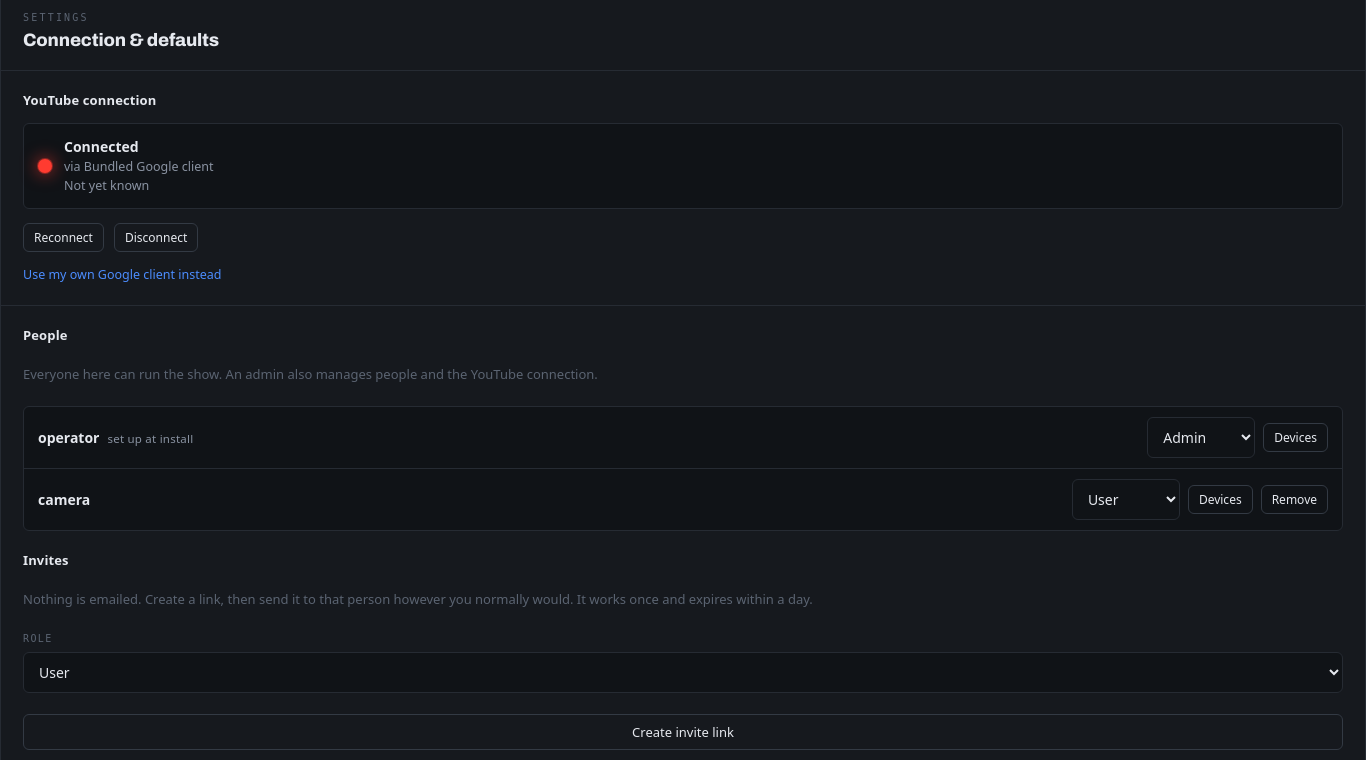
it: invites › shows the link once, and says it will not be shown again
The width and height of the screenshot is (1366, 760).
Click the button "Create invite link". click: (683, 732)
box: [23,714,1343,750]
(page scrolled)
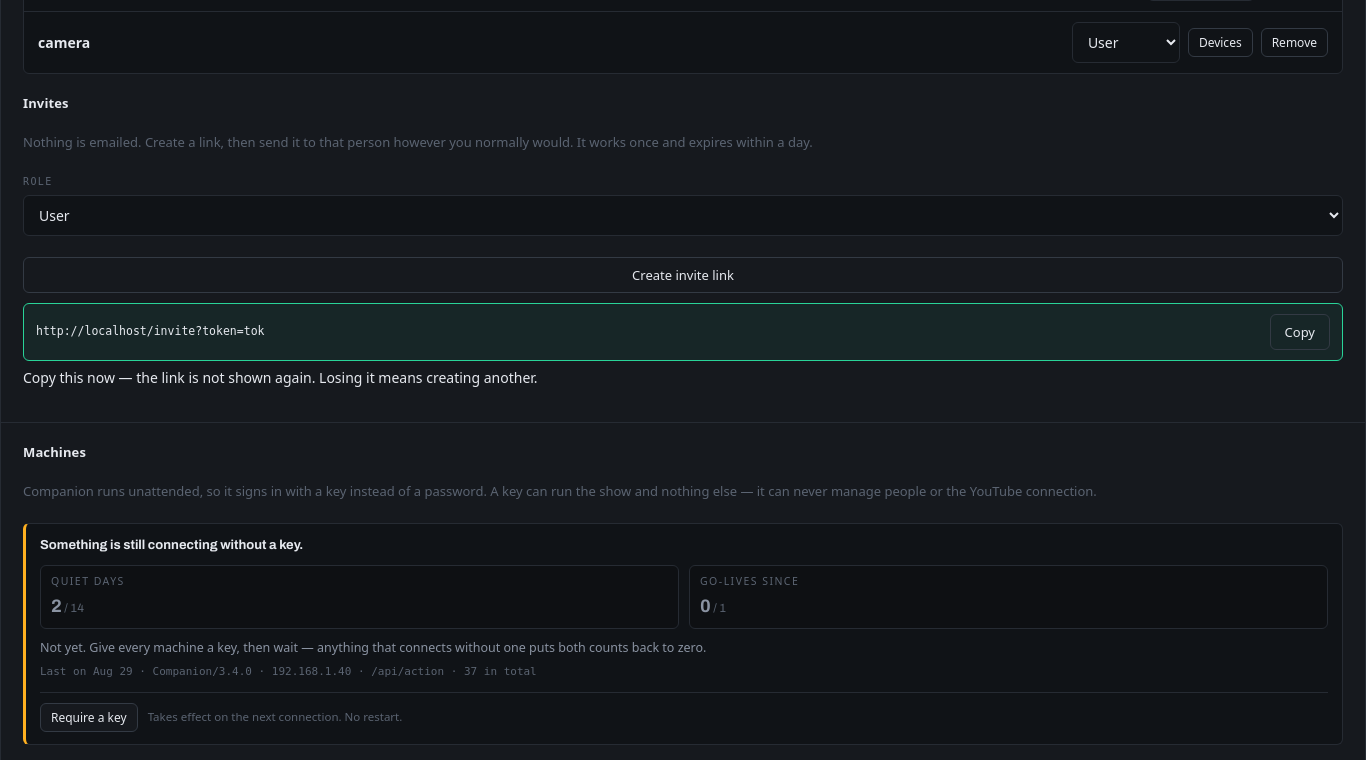
Check: the text "not shown again" is shown, box [23,368,538,387]
